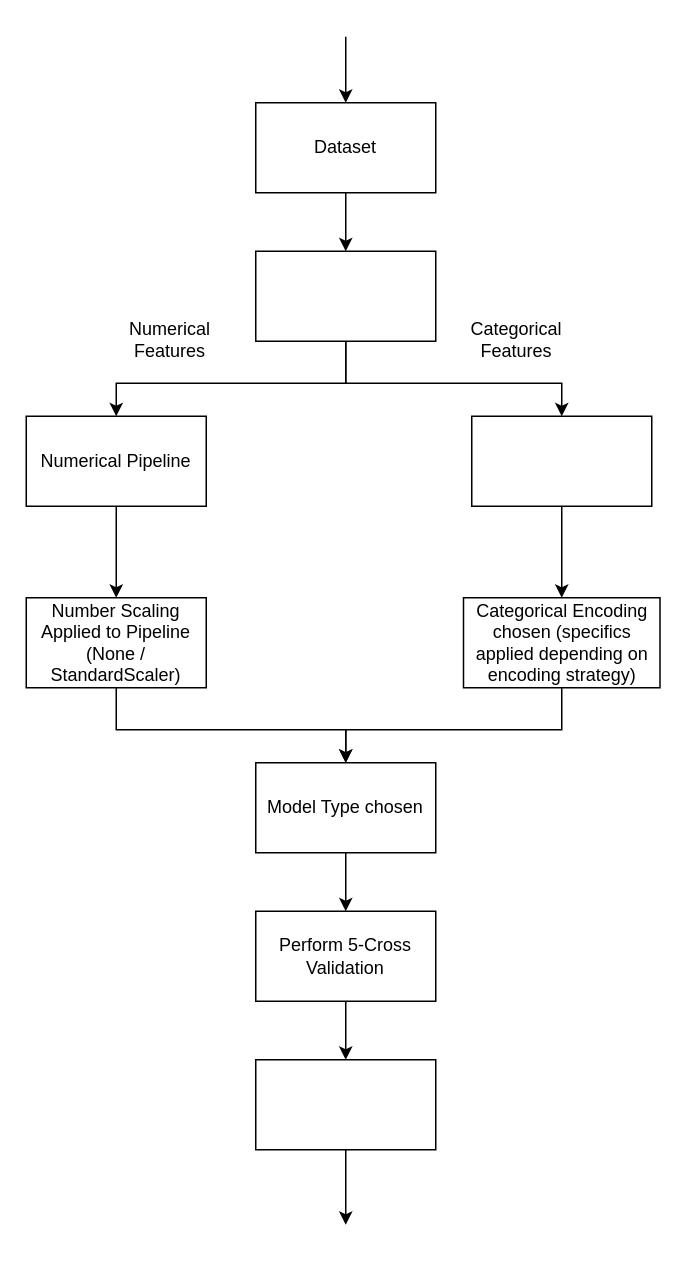
This 687x1263 diagram has some shape labels left out. The centre of each missing label's shape, as x and y in pixels:
Categorical Pipeline: [561,460]
Clean Data: [345,295]
Make predictions on Test values: [345,1104]
